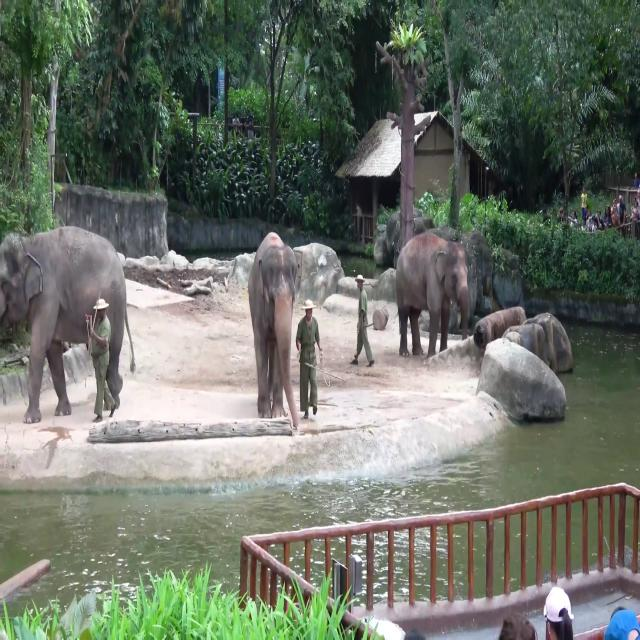Elephant: (0, 224, 135, 423), (248, 231, 299, 430), (395, 230, 469, 358)
person: (89, 296, 116, 422), (295, 299, 323, 418), (350, 274, 374, 366), (543, 586, 574, 639), (603, 608, 640, 640)
